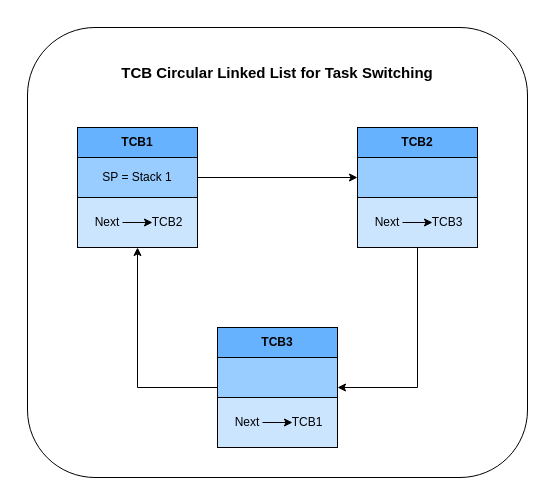
Some shapes in this 554 by 504 pixel diagram are drawn without their labels. Each missing label, with the centre of its shape:
SP = Stack 2: (417,177)
SP = Stack 3: (277,377)
